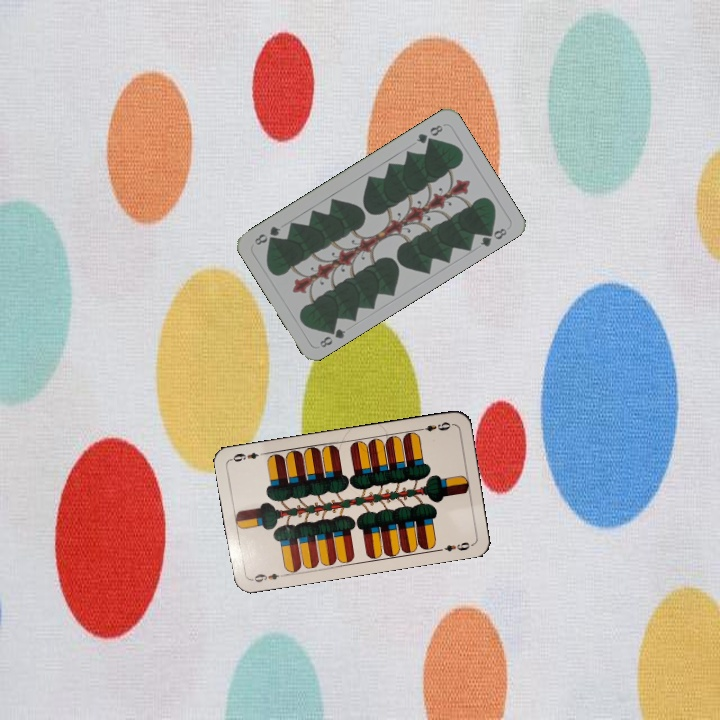E9: (247, 569, 288, 585), (414, 418, 453, 434)
G8: (316, 322, 348, 350), (412, 121, 446, 146)
